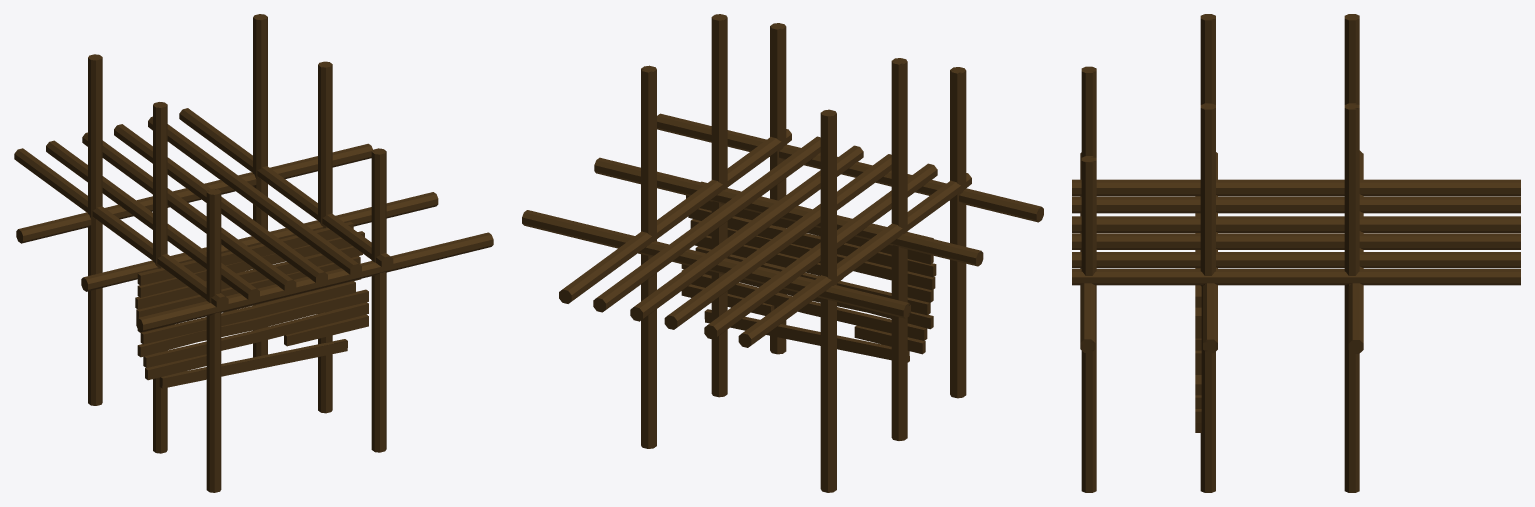
The model's file is tunel_structure.obj.
3 views of the same model, side by side, from view 1: azimuth 30°, elevation 25°; view 2: azimuth 150°, elevation 25°; view 3: azimuth 270°, elevation 25° (orthographic). The views are drawn at different scales.
Visible parts, largest first — view 1: tunnel_structure; view 2: tunnel_structure; view 3: tunnel_structure.
Part boxes in pixels (bbox=[...]): tunnel_structure: bbox=[14, 14, 493, 492]; tunnel_structure: bbox=[522, 14, 1043, 492]; tunnel_structure: bbox=[1072, 14, 1520, 492].
Size of the model in its own units: 3.78 by 3.56 by 3.77.
